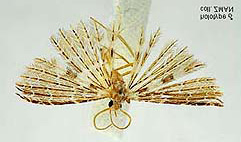Alucitidae: (10, 3, 226, 132)
moth: (12, 5, 228, 134)
